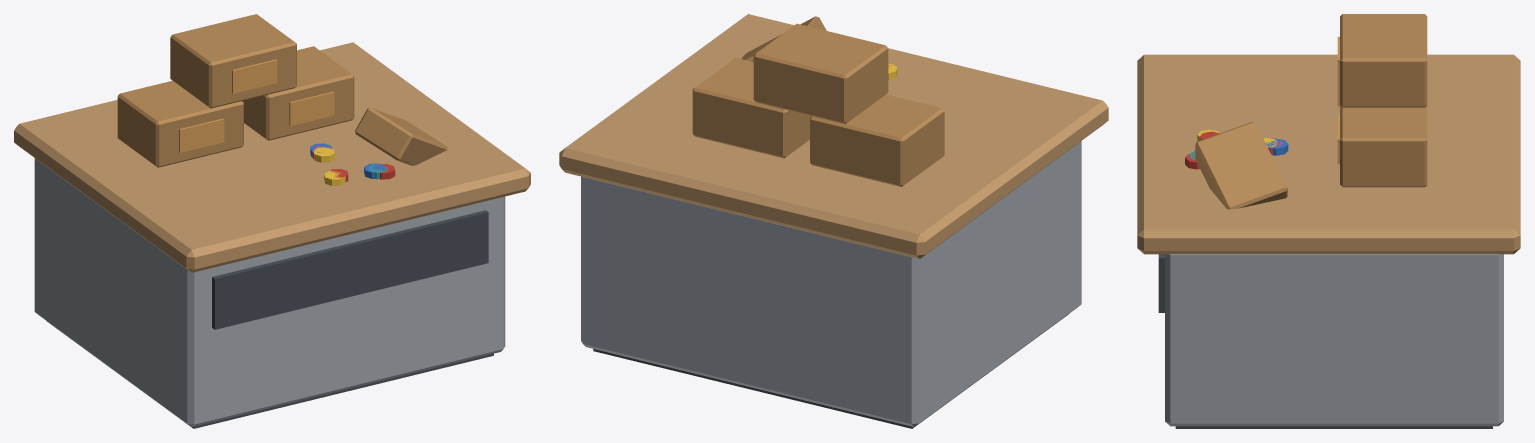
Rendered from thumbtacks_p1_3.glb.
3 renders of one model, left to right at view 1: azimuth 30°, elevation 25°; view 2: azimuth 150°, elevation 25°; view 3: azimuth 270°, elevation 25°, orthographic. The views are drawn at different scales.
Parts seen in each view (by area): view 1: thumbtacks_p1_3_mesh_Desk, thumbtacks_p1_3_mesh; view 2: thumbtacks_p1_3_mesh_Desk, thumbtacks_p1_3_mesh; view 3: thumbtacks_p1_3_mesh_Desk, thumbtacks_p1_3_mesh.
Part boxes in pixels (bbox=[...]): thumbtacks_p1_3_mesh_Desk: bbox=[14, 42, 530, 428]; thumbtacks_p1_3_mesh: bbox=[117, 14, 447, 185]; thumbtacks_p1_3_mesh_Desk: bbox=[559, 14, 1108, 428]; thumbtacks_p1_3_mesh: bbox=[692, 16, 944, 186]; thumbtacks_p1_3_mesh_Desk: bbox=[1137, 54, 1520, 428]; thumbtacks_p1_3_mesh: bbox=[1185, 14, 1427, 209].
Size of the model in its own units: 0.78 by 0.62 by 0.7.
